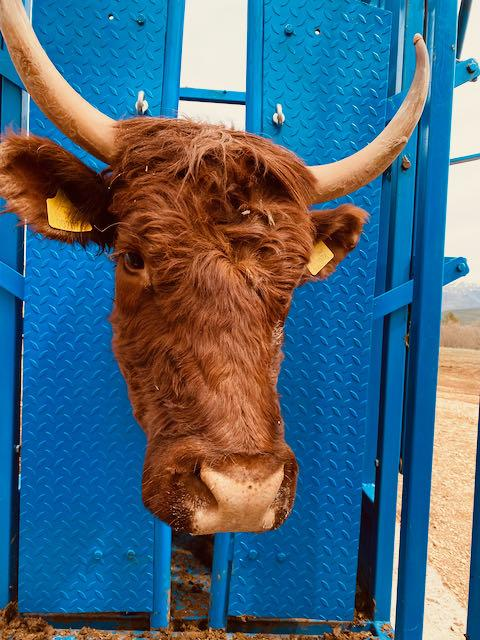muzzles: (140, 446, 306, 542)
